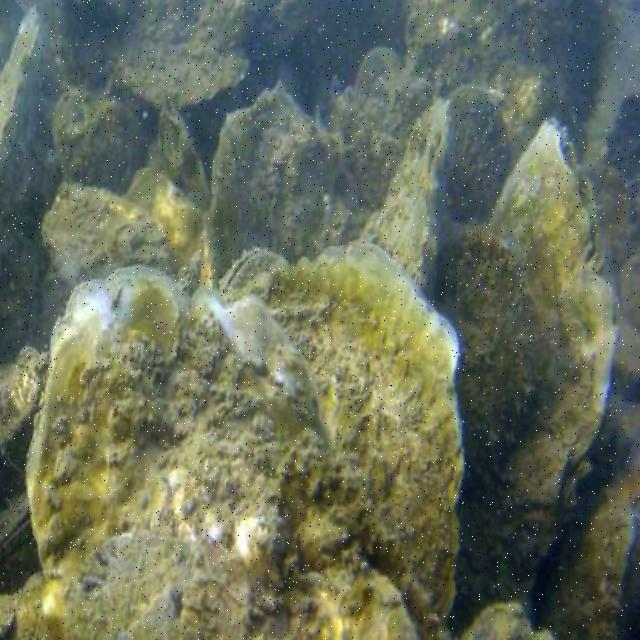Oyster-Closed: (27, 266, 452, 638), (450, 117, 618, 638), (231, 244, 465, 617), (420, 225, 548, 518), (376, 86, 507, 284), (198, 82, 318, 286), (536, 399, 638, 638), (64, 528, 251, 638), (44, 180, 177, 289), (111, 18, 251, 107), (281, 131, 369, 262), (50, 92, 151, 196), (0, 8, 43, 206), (158, 92, 211, 211), (459, 605, 561, 638), (216, 251, 291, 291), (0, 574, 42, 638), (356, 48, 400, 100)
Oyster-Open: (0, 491, 34, 566)
